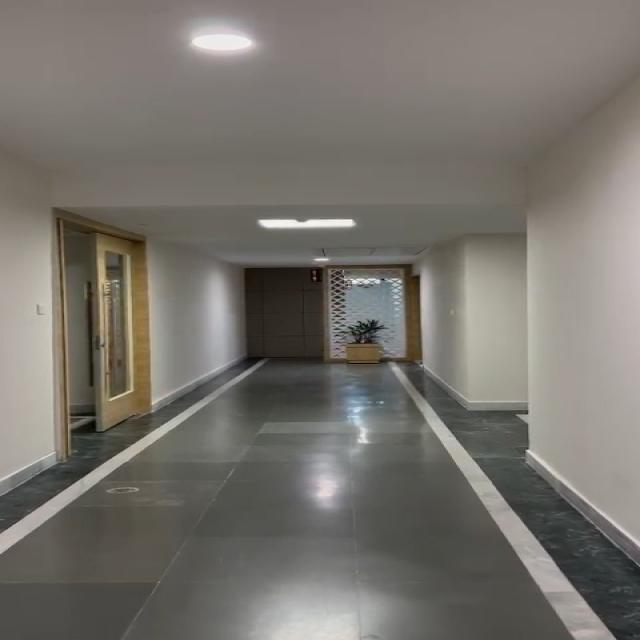door: (51, 212, 159, 429)
floor: (5, 454, 575, 640), (182, 367, 428, 466)
furniture: (328, 316, 392, 372)
wall: (422, 210, 640, 444), (0, 180, 72, 473), (150, 233, 259, 368)
